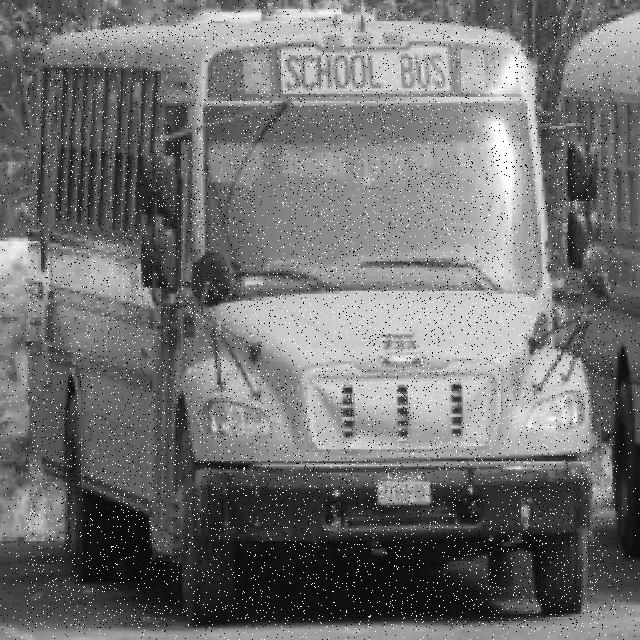Bus: (26, 11, 618, 628)
